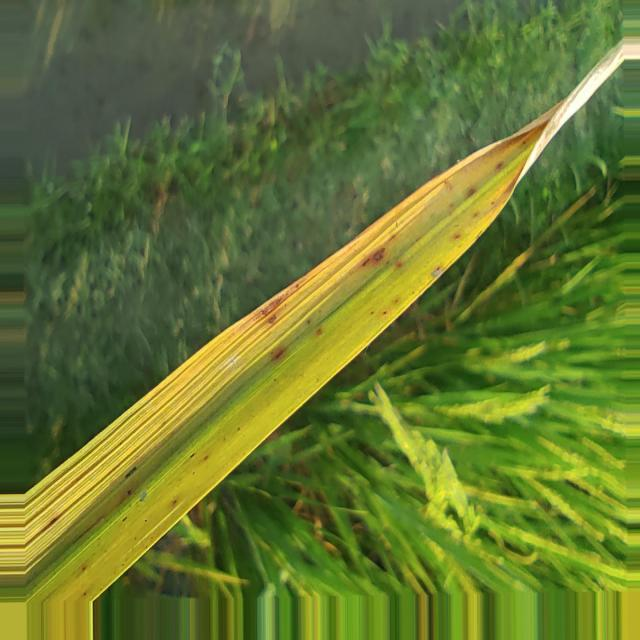Brown_Spot: (241, 278, 305, 321), (271, 343, 287, 362), (490, 195, 501, 213), (371, 248, 385, 262), (170, 493, 184, 505), (394, 297, 406, 310), (431, 267, 445, 278), (125, 467, 138, 478), (81, 560, 91, 574), (125, 467, 136, 478), (49, 517, 60, 528), (452, 227, 462, 239), (139, 490, 148, 502), (496, 157, 505, 169), (78, 590, 90, 599), (380, 307, 390, 317), (126, 488, 136, 497), (202, 453, 211, 462), (272, 372, 280, 382), (395, 260, 404, 268), (236, 422, 244, 431), (469, 185, 476, 194), (189, 450, 196, 459), (369, 308, 375, 315), (316, 328, 322, 335), (191, 472, 198, 477), (122, 517, 128, 522), (144, 517, 148, 524), (475, 210, 479, 216)
Leaf_Blast: (340, 38, 640, 263)
